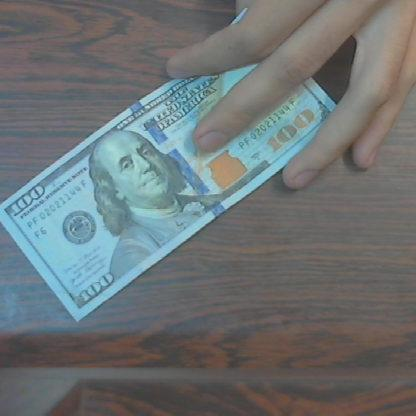one_hundred-front: (3, 80, 339, 324)
